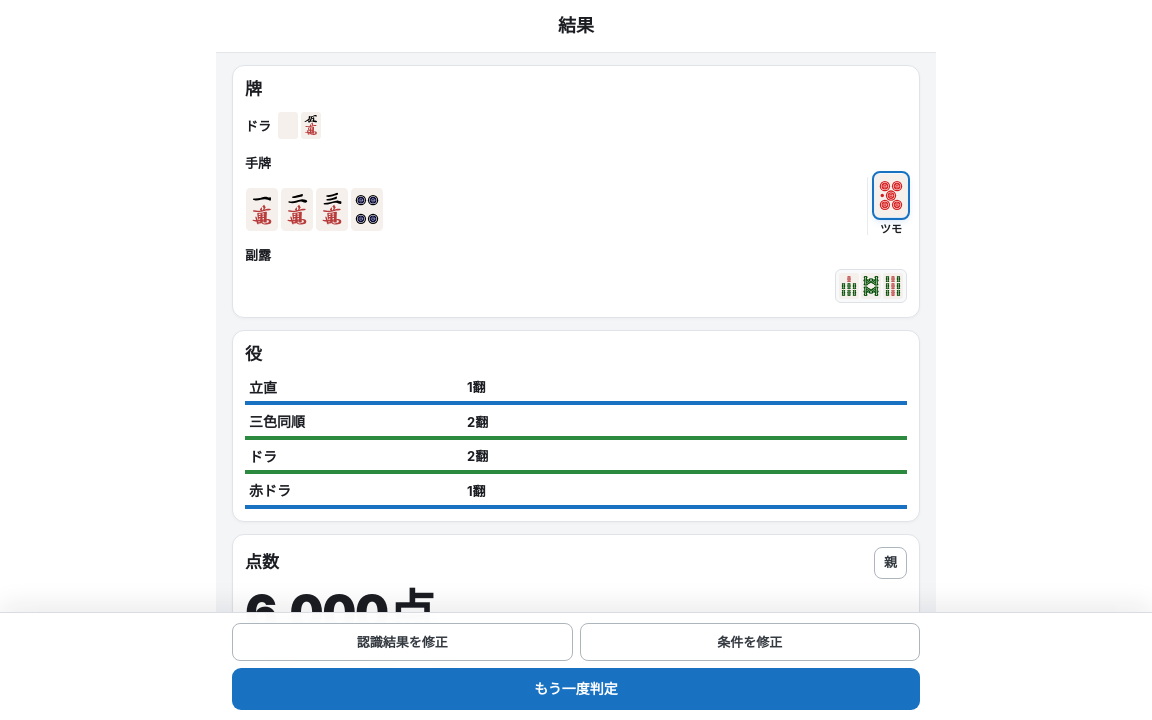
Test: result page presentation › commits Result-origin condition edits only after successful recalculation
What coordinates should you click on to do the following:
click the button "条件を修正"
I would click on:
 (750, 642)
Its box is [580, 623, 920, 661].
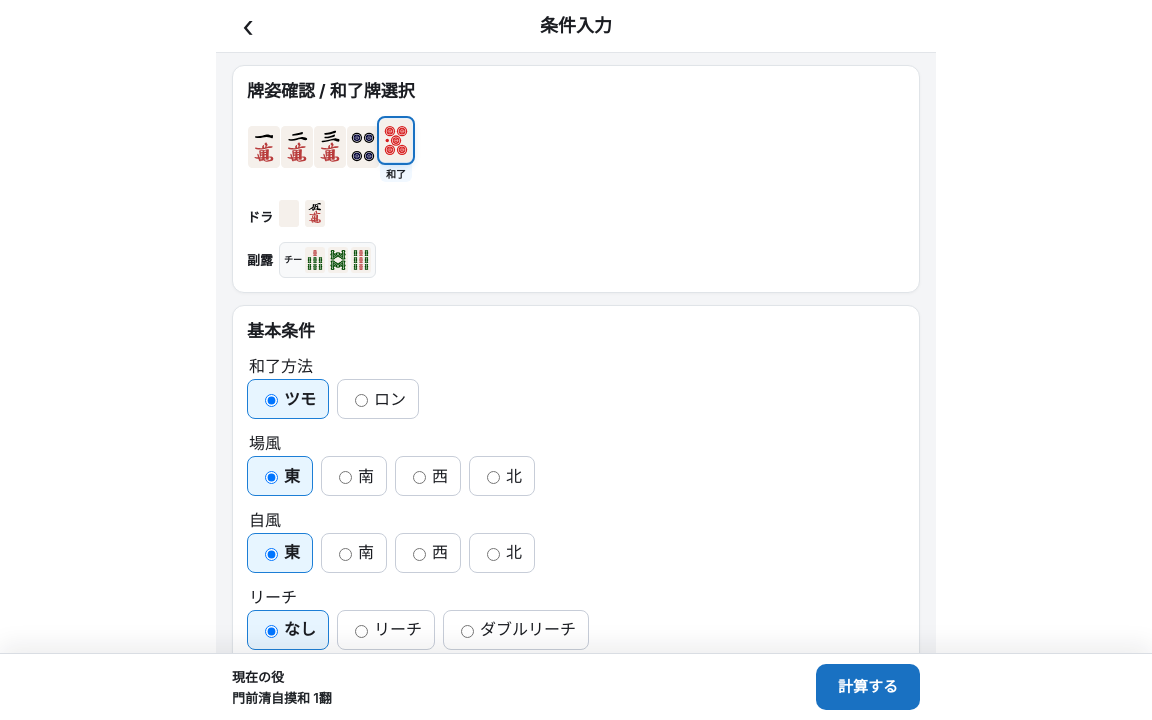
What coordinates should you click on to do the following:
click the radio button labelled "南" below "自風"
I would click on:
 (346, 554)
Its box is [339, 548, 352, 561].
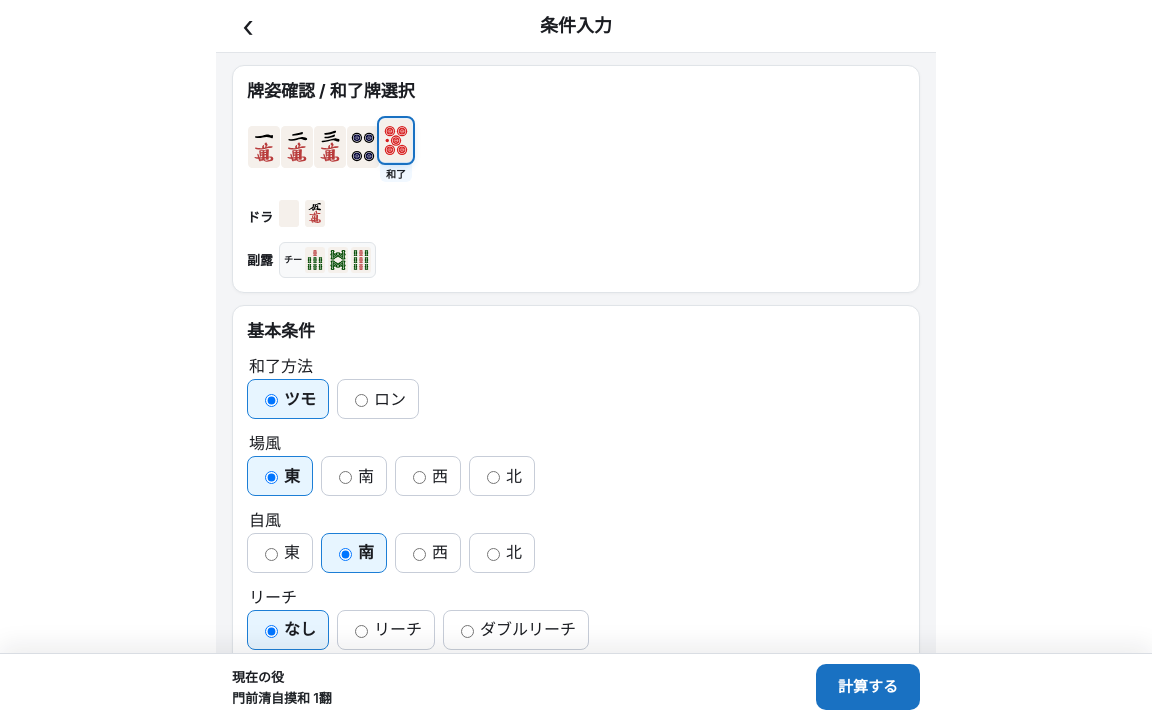
What coordinates should you click on to do the following:
click the button named "1萬 1"
I would click on:
 (264, 152)
Its box is [248, 122, 280, 182].
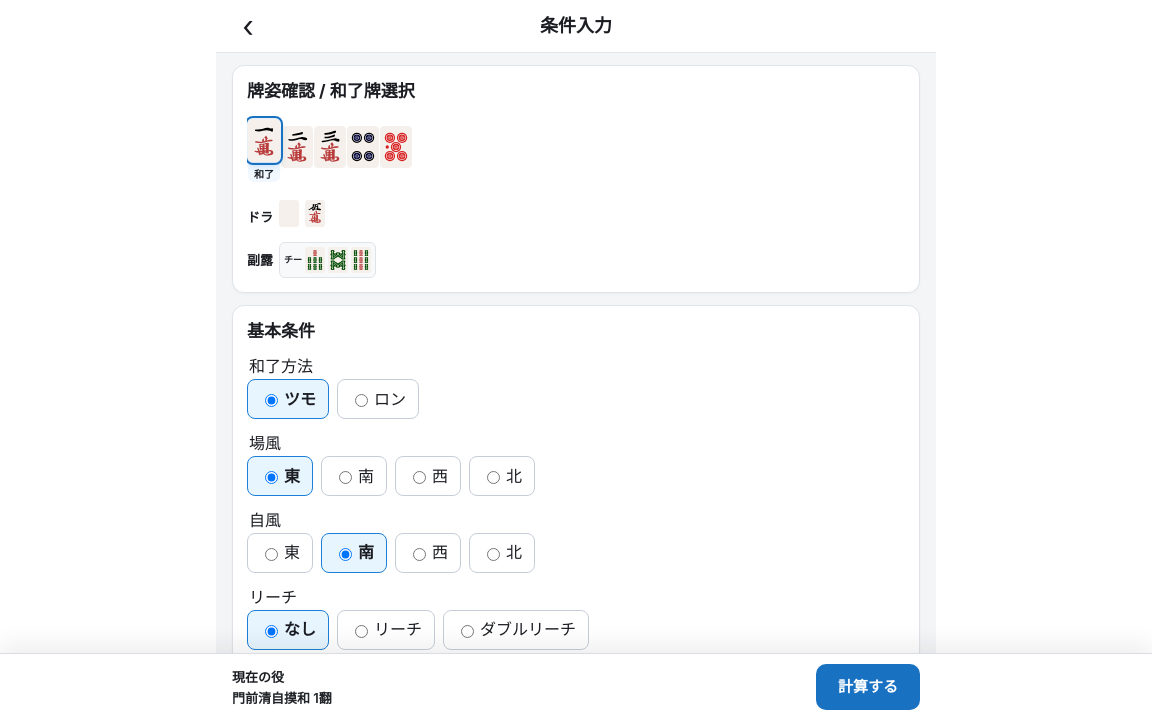
What coordinates should you click on to do the following:
click the button "計算する"
I would click on:
 (868, 687)
Its box is [816, 664, 920, 710].
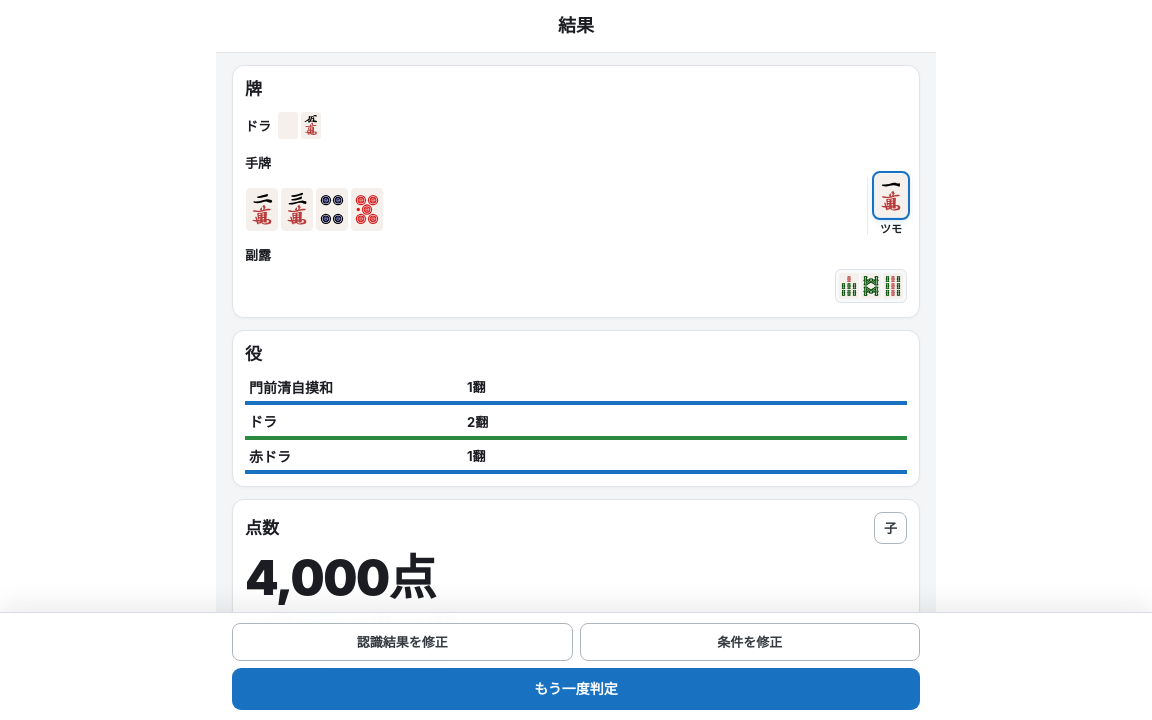
expect the heading "結果" is shown: met, box [558, 15, 594, 36]
